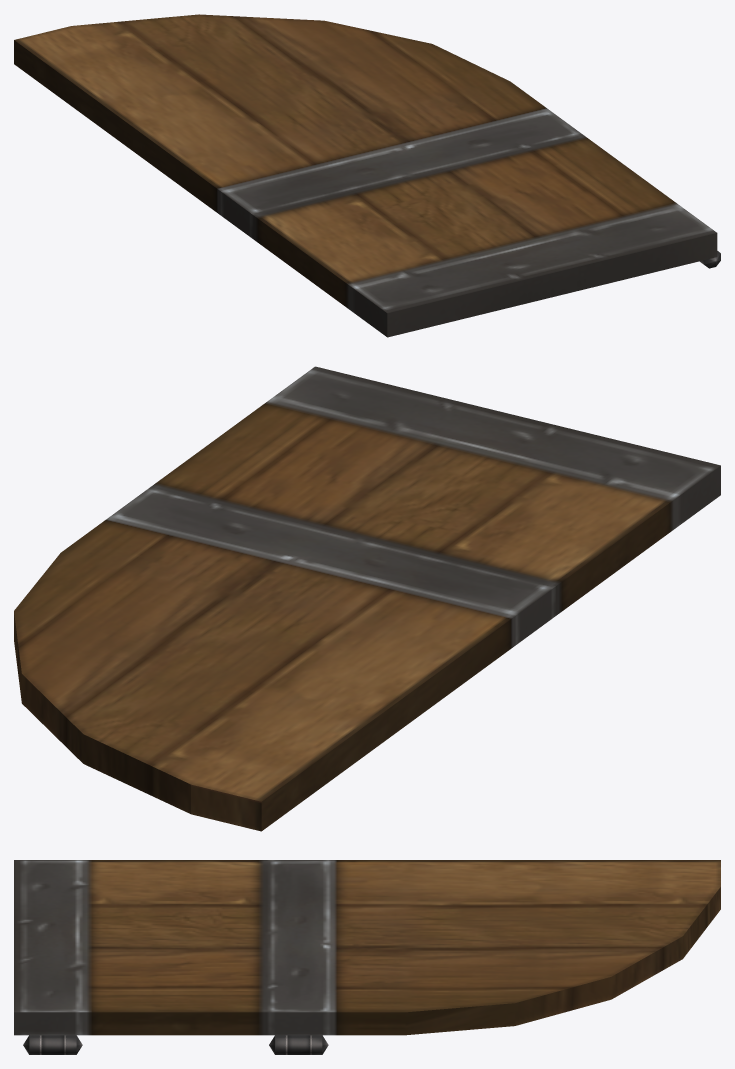
File: Windmill_doorL.fbx
The picture shows the model from 3 angles, top to bottom: view 1: azimuth 30°, elevation 25°; view 2: azimuth 150°, elevation 25°; view 3: azimuth 270°, elevation 25°; orthographic projection. The views are drawn at different scales.
Visible parts, largest first — view 1: Windmill_doorL_LOD0; view 2: Windmill_doorL_LOD0; view 3: Windmill_doorL_LOD0.
Boxes of the visible parts, x1,y1,x2,y2 form: Windmill_doorL_LOD0: [14, 14, 720, 337]; Windmill_doorL_LOD0: [14, 366, 720, 831]; Windmill_doorL_LOD0: [14, 860, 720, 1054].
Size of what is drawn, in the model's own units: 1.32 by 0.1787 by 2.49.
